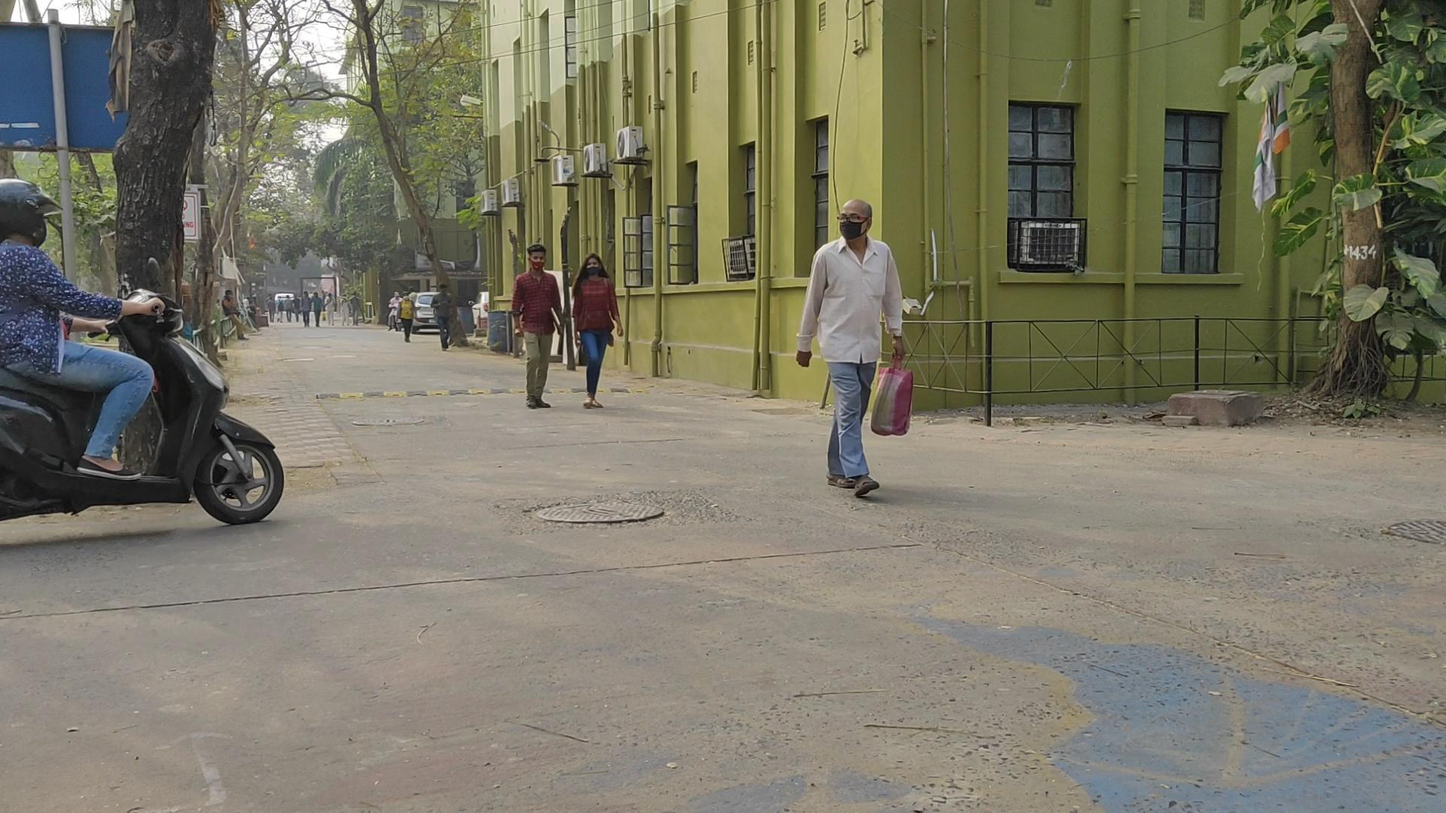bike: (2, 173, 287, 527)
